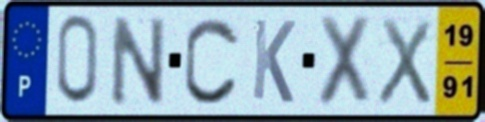0: (54, 12, 100, 110)
C: (181, 14, 243, 108)
K: (249, 16, 298, 106)
N: (109, 13, 168, 109)
X: (313, 12, 374, 110), (374, 15, 434, 108)
